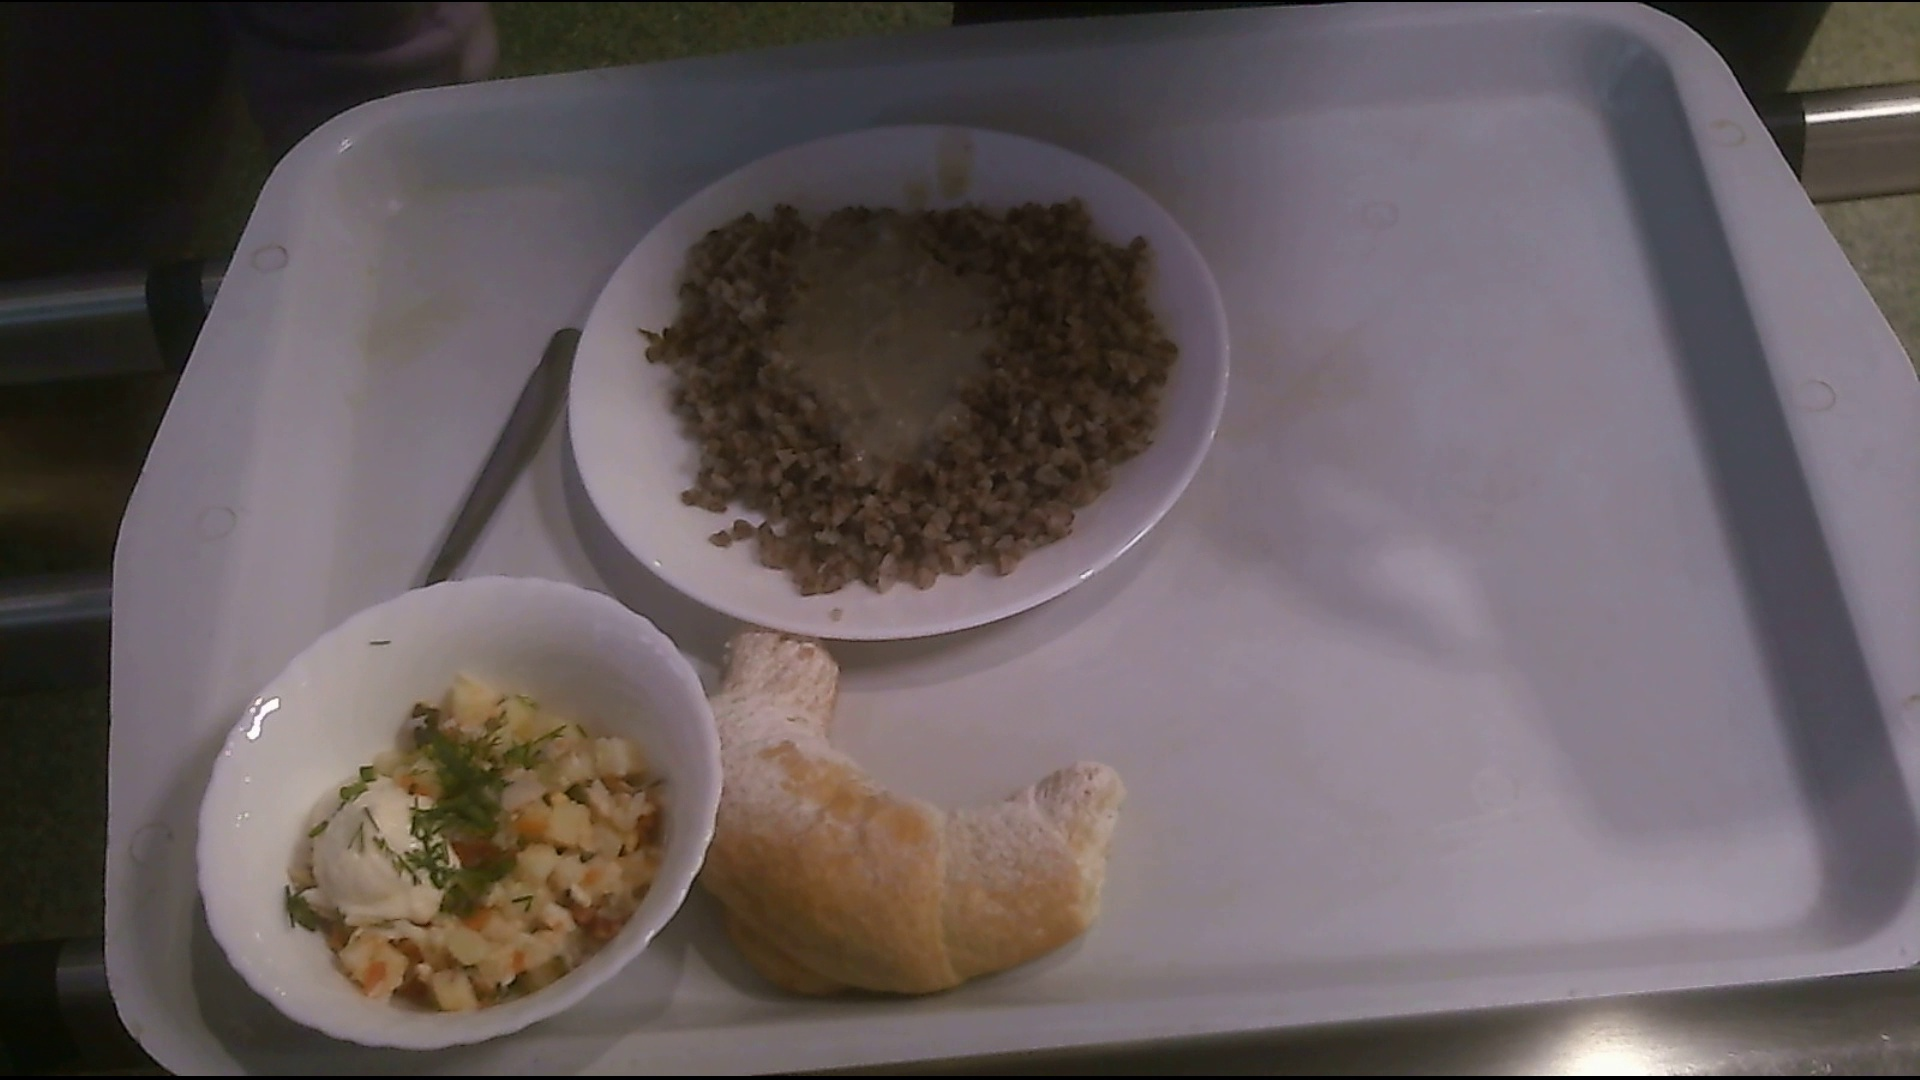bowl: (204, 592, 727, 1054)
other: (709, 624, 1124, 997)
plate: (575, 123, 1225, 640)
